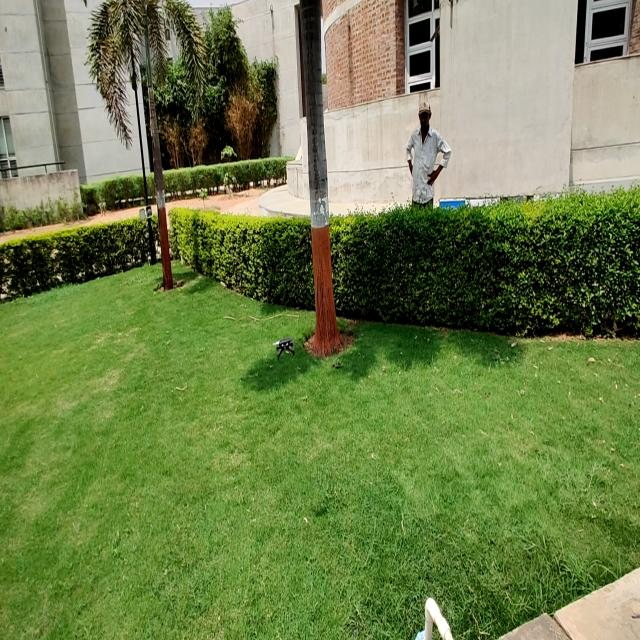drone: (266, 328, 301, 368)
